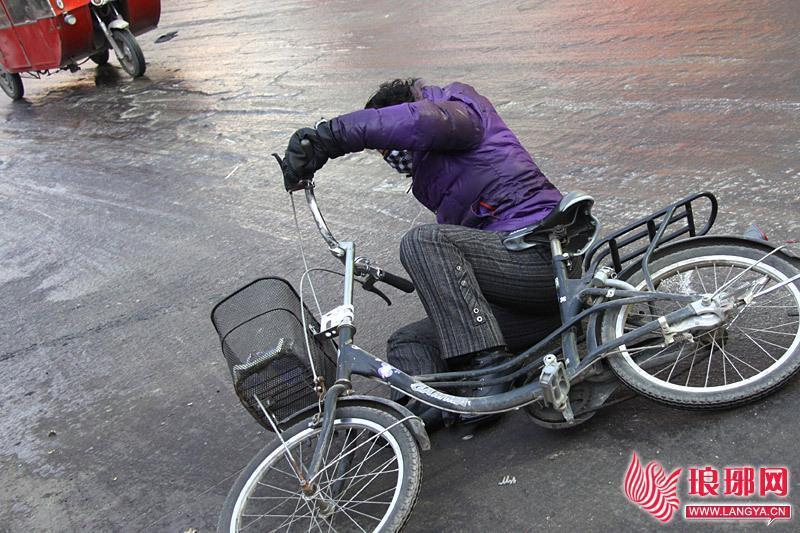Fall-Detected: (265, 55, 621, 423)
